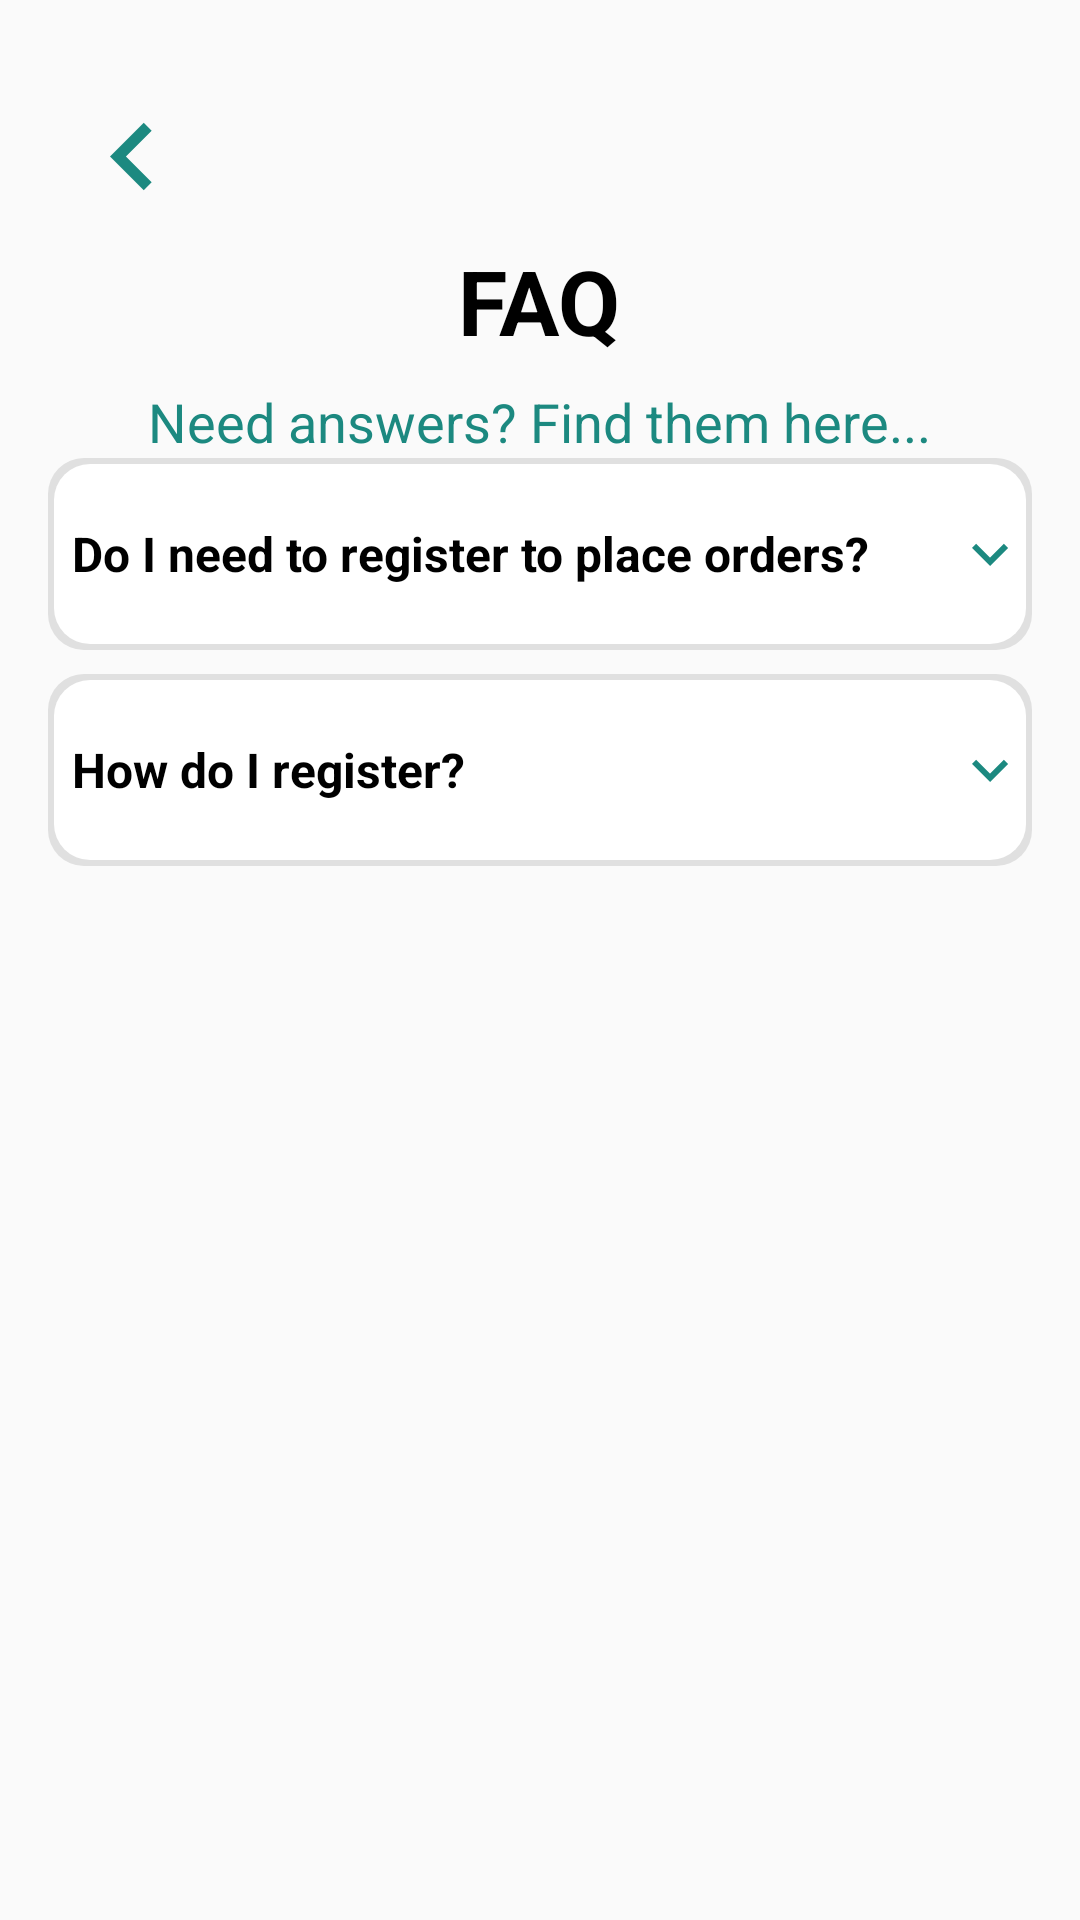

Point at icon controls on the screen. Image size 1080px x 1920px, points as point (x, y).
Expand/Collapse Icon: point (990, 555), point (990, 771)
Return: point (131, 156)
